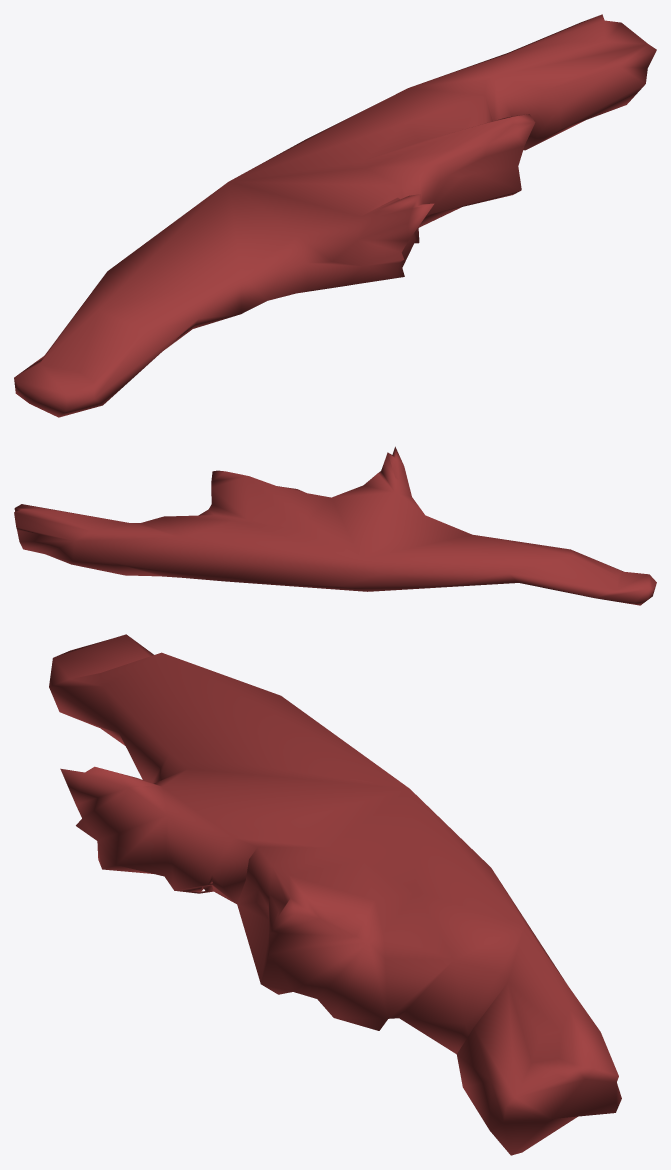
Rendered from transverse-head-of-adductor-hallucis-l.glb.
The picture shows the model from 3 angles, top to bottom: view 1: azimuth 30°, elevation 25°; view 2: azimuth 150°, elevation 25°; view 3: azimuth 270°, elevation 25°; orthographic projection. The views are drawn at different scales.
Parts seen in each view (by area): view 1: Transverse head of adductor hallucis.l; view 2: Transverse head of adductor hallucis.l; view 3: Transverse head of adductor hallucis.l.
Boxes of the visible parts, box(x1,y1,x2,y2) form: Transverse head of adductor hallucis.l: box(14, 14, 656, 417); Transverse head of adductor hallucis.l: box(14, 446, 656, 605); Transverse head of adductor hallucis.l: box(49, 634, 621, 1155).
Size of the model in its own units: 0.0482 by 0.00744 by 0.0224.
